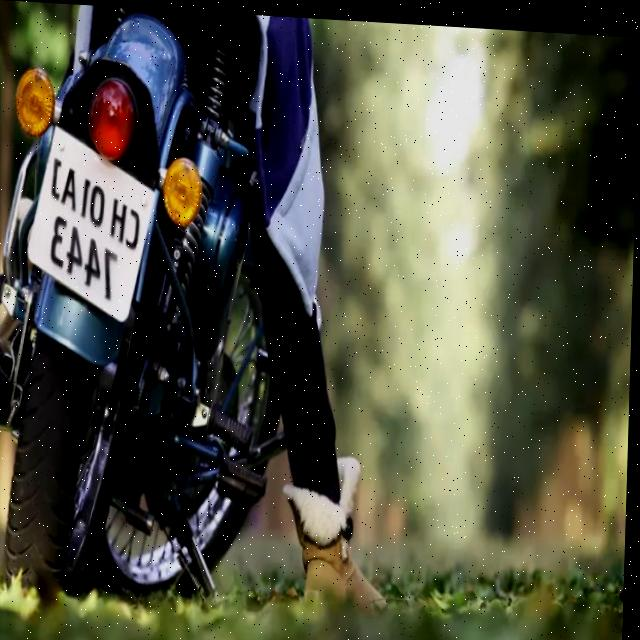plate: (26, 122, 163, 322)
